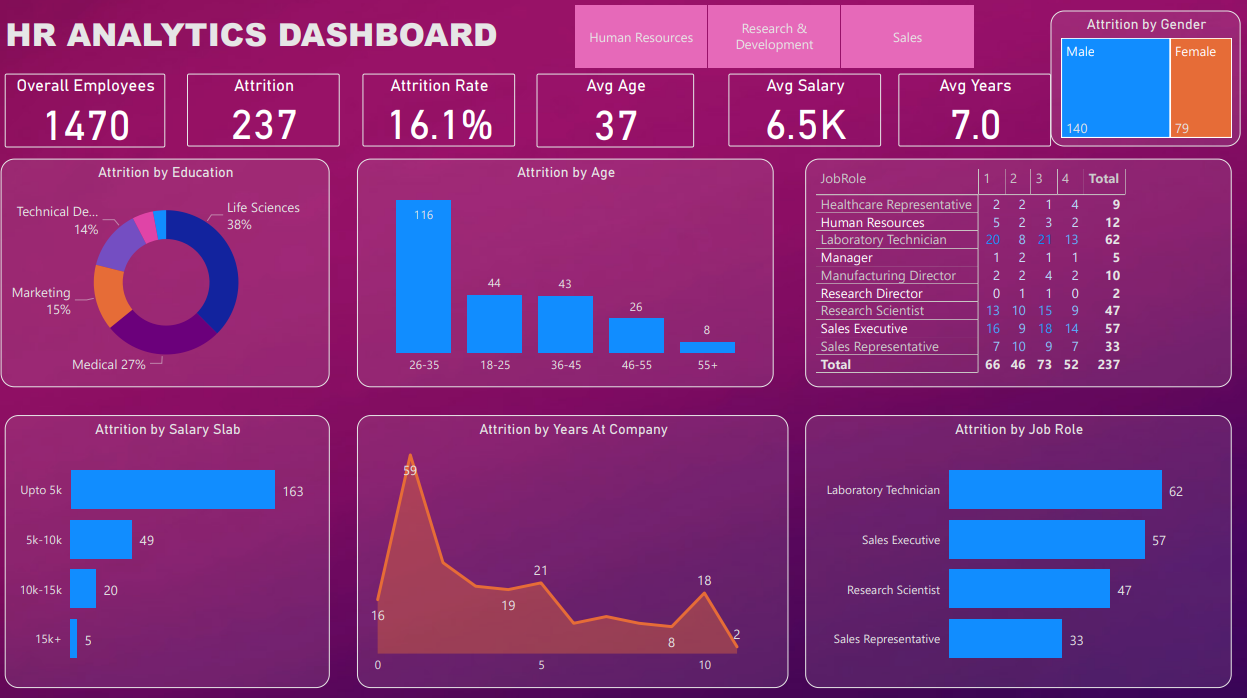

The page's visual inventory and layout, read from the dashboard file:
{"tool":"powerbi","page":{"name":"Page 1","canvas":[1280,720],"ordinal":0},"visuals":[{"type":"card","title":"Overall Employees","fields":{"Values":["CountNonNull(HR_Analytics.EmpID)"]},"box":[13.9,76.5,162.8,75.1],"z":0},{"type":"card","title":"Attrition","fields":{"Values":["Sum(HR_Analytics.AttritionCount)"]},"box":[198.7,76.3,154.8,74.4],"z":1000},{"type":"card","title":"Attrition Rate","fields":{"Values":["HR_Analytics.AttritionRate"]},"box":[377.5,76.3,154.8,74.4],"z":2000},{"type":"card","title":"Avg Age","fields":{"Values":["Avg(HR_Analytics.Age)"]},"box":[553.7,76.5,160,75.1],"z":3000},{"type":"card","title":"Avg Salary","fields":{"Values":["Avg(HR_Analytics.MonthlyIncome)"]},"box":[748.3,76.3,154.8,74.4],"z":4000},{"type":"card","title":"Avg Years","fields":{"Values":["Avg(HR_Analytics.YearsAtCompany)"]},"box":[921.1,76.3,154.8,74.4],"z":5000},{"type":"donutChart","title":"Attrition by Education","fields":{"Category":["HR_Analytics.EducationField"],"Y":["Sum(HR_Analytics.AttritionCount)"]},"box":[9.7,162.8,333.9,232.3],"z":6000},{"type":"columnChart","title":"Attrition by Age","fields":{"Category":["HR_Analytics.AgeGroup"],"Y":["Sum(HR_Analytics.AttritionCount)"]},"box":[371.5,162.8,423,232.3],"z":7000},{"type":"pivotTable","fields":{"Rows":["HR_Analytics.JobRole"],"Columns":["HR_Analytics.JobSatisfaction"],"Values":["Sum(HR_Analytics.AttritionCount)"]},"box":[826.4,162.8,432.7,232.3],"z":8000},{"type":"barChart","title":"Attrition by Salary Slab","fields":{"Category":["HR_Analytics.SalarySlab"],"Y":["Sum(HR_Analytics.AttritionCount)"]},"box":[13.9,423,329.7,276.9],"z":9000},{"type":"barChart","title":"Attrition by Job Role","fields":{"Category":["HR_Analytics.JobRole"],"Y":["Sum(HR_Analytics.AttritionCount)"]},"box":[826.4,423,432.7,276.9],"z":10000},{"type":"areaChart","title":"Attrition by Years At Company","fields":{"Category":["HR_Analytics.YearsAtCompany"],"Y":["Sum(HR_Analytics.AttritionCount)"]},"box":[371.5,423,438.3,276.9],"z":10001},{"type":"treemap","title":"Attrition by Gender","fields":{"Group":["HR_Analytics.Gender"],"Values":["Sum(HR_Analytics.AttritionCount)"]},"box":[1075.5,12.5,193.4,137.7],"z":10002},{"type":"slicer","fields":{"Values":["HR_Analytics.Department"]},"box":[567.7,0,453.6,76.5],"z":10003},{"type":"textbox","box":[9.7,8.3,573.2,68.2],"z":10004}]}

Visuals, with their boxes in screenshot pixels (x1, y1, x2, y2), scaled from the page's 1280x720 canvas onto the 1247x698 screenshot:
"Overall Employees" card: {"x1": 14, "y1": 74, "x2": 172, "y2": 147}
"Attrition" card: {"x1": 194, "y1": 74, "x2": 344, "y2": 146}
"Attrition Rate" card: {"x1": 368, "y1": 74, "x2": 519, "y2": 146}
"Avg Age" card: {"x1": 539, "y1": 74, "x2": 695, "y2": 147}
"Avg Salary" card: {"x1": 729, "y1": 74, "x2": 880, "y2": 146}
"Avg Years" card: {"x1": 897, "y1": 74, "x2": 1048, "y2": 146}
"Attrition by Education" donutChart: {"x1": 9, "y1": 158, "x2": 335, "y2": 383}
"Attrition by Age" columnChart: {"x1": 362, "y1": 158, "x2": 774, "y2": 383}
pivotTable - HR_Analytics.JobRole x HR_Analytics.JobSatisfaction: {"x1": 805, "y1": 158, "x2": 1227, "y2": 383}
"Attrition by Salary Slab" barChart: {"x1": 14, "y1": 410, "x2": 335, "y2": 679}
"Attrition by Job Role" barChart: {"x1": 805, "y1": 410, "x2": 1227, "y2": 679}
"Attrition by Years At Company" areaChart: {"x1": 362, "y1": 410, "x2": 789, "y2": 679}
"Attrition by Gender" treemap: {"x1": 1048, "y1": 12, "x2": 1236, "y2": 146}
slicer - HR_Analytics.Department: {"x1": 553, "y1": 0, "x2": 995, "y2": 74}
textbox: {"x1": 9, "y1": 8, "x2": 568, "y2": 74}
